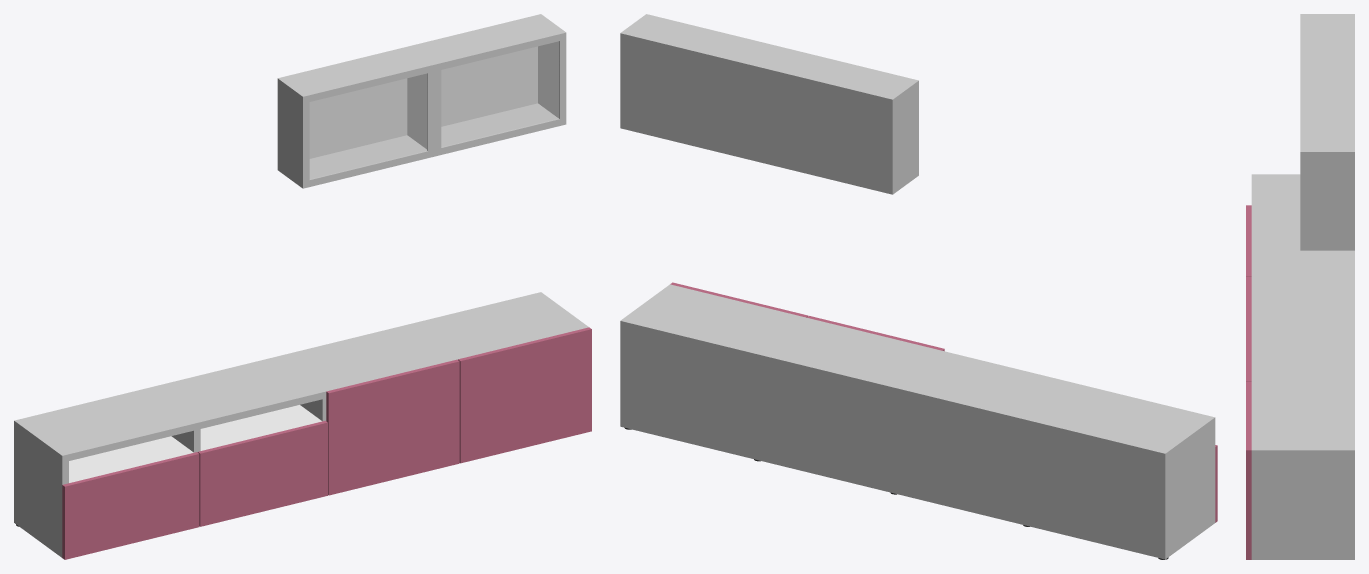
File: BESTA_TV_Storage.obj
3 views of the same model, side by side, from view 1: azimuth 30°, elevation 25°; view 2: azimuth 150°, elevation 25°; view 3: azimuth 270°, elevation 25° (orthographic). The views are drawn at different scales.
Parts seen in each view (by area): view 1: Rectangle014, Rectangle002, Rectangle019, Rectangle018, Rectangle006, Rectangle016, Rectangle017, Rectangle009, Rectangle008, Rectangle004, Rectangle007, Box001 (+2 smaller); view 2: Rectangle015, Rectangle014, Rectangle006, Rectangle002; view 3: Rectangle014, Rectangle002, Rectangle019, Rectangle015, Rectangle006, Rectangle007, Rectangle016, Rectangle018, Rectangle004, Rectangle017.
Part boxes in pixels (left/top/right/bottom): Rectangle014: left=15, top=293, right=588, bottom=557; Rectangle002: left=279, top=15, right=564, bottom=187; Rectangle019: left=458, top=327, right=591, bottom=463; Rectangle018: left=326, top=359, right=459, bottom=495; Rectangle006: left=277, top=14, right=541, bottom=170; Rectangle016: left=62, top=452, right=199, bottom=559; Rectangle017: left=197, top=420, right=327, bottom=526; Rectangle009: left=441, top=41, right=559, bottom=147; Rectangle008: left=310, top=73, right=427, bottom=179; Rectangle004: left=301, top=64, right=434, bottom=188; Rectangle007: left=434, top=31, right=566, bottom=156; Box001: left=69, top=436, right=193, bottom=482; Rectangle015: left=620, top=320, right=1166, bottom=559; Rectangle014: left=622, top=284, right=1215, bottom=558; Rectangle006: left=620, top=32, right=893, bottom=194; Rectangle002: left=622, top=15, right=917, bottom=193; Rectangle014: left=1251, top=174, right=1352, bottom=559; Rectangle002: left=1303, top=14, right=1352, bottom=250; Rectangle019: left=1246, top=381, right=1251, bottom=559; Rectangle015: left=1352, top=250, right=1354, bottom=559; Rectangle006: left=1352, top=14, right=1354, bottom=250; Rectangle007: left=1300, top=83, right=1303, bottom=250; Rectangle016: left=1246, top=205, right=1251, bottom=276; Rectangle018: left=1246, top=312, right=1251, bottom=381; Rectangle004: left=1300, top=14, right=1303, bottom=82; Rectangle017: left=1246, top=276, right=1251, bottom=312.
Bounding box in the file's own units: 2400 × 1660 × 400.
